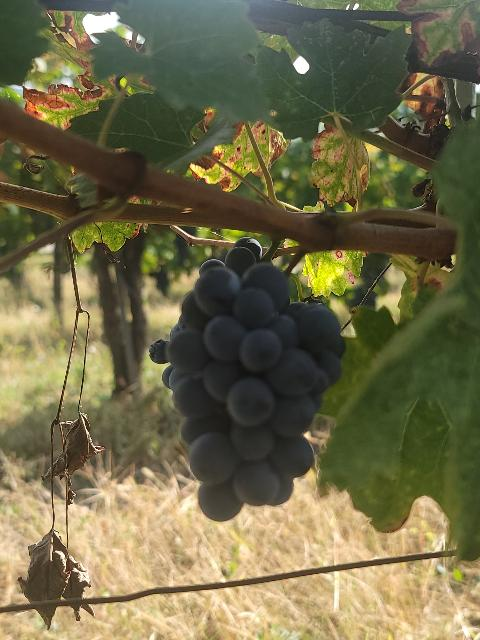grapes: (150, 238, 345, 521)
